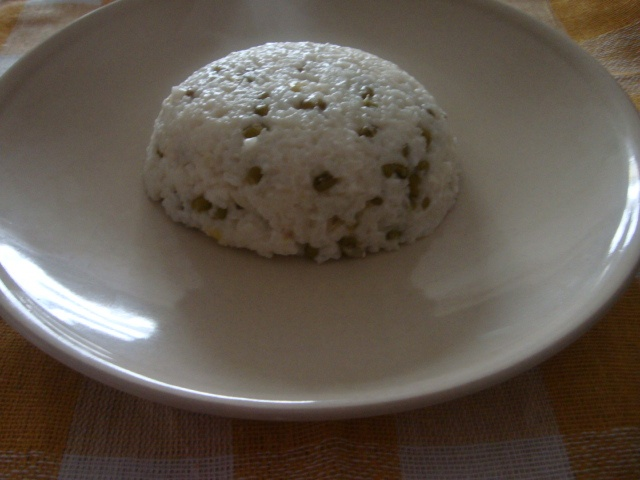kiribath: (136, 32, 468, 266)
